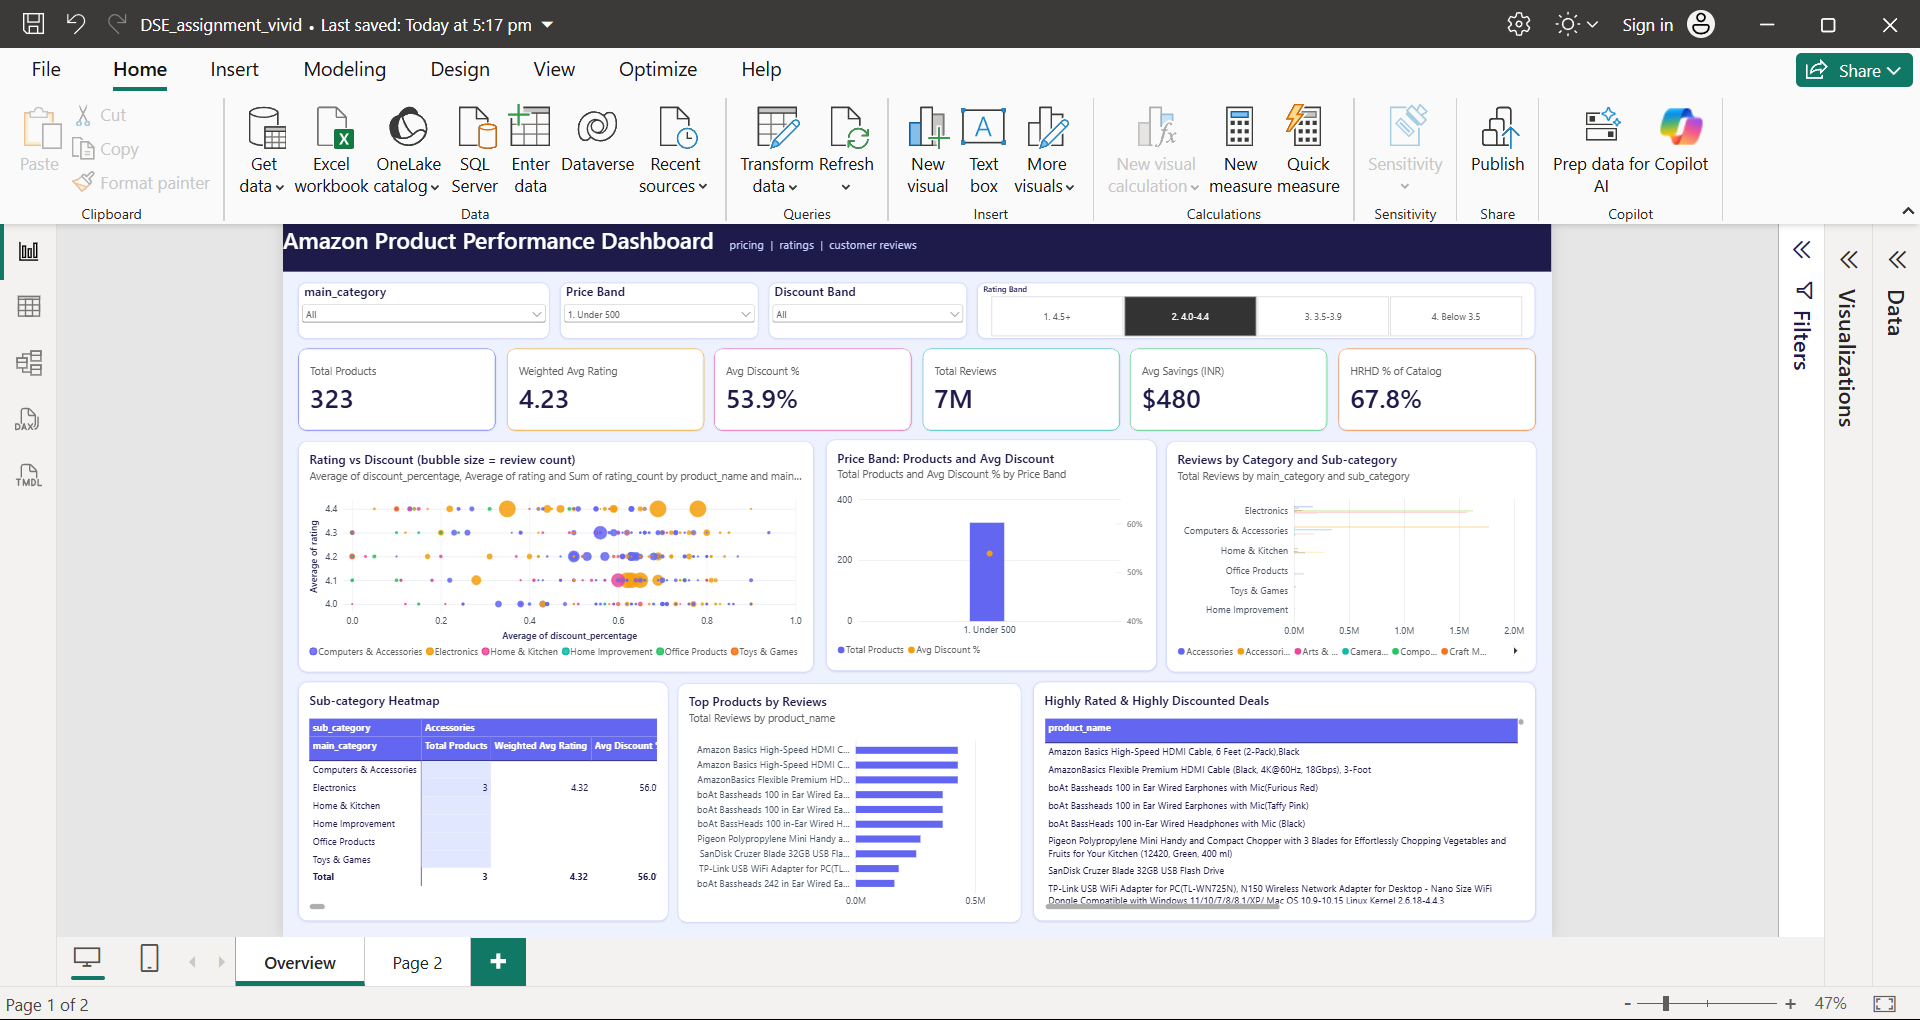

The dashboard page shown, as its layout file describes it:
{"tool":"powerbi","page":{"name":"Overview","canvas":[1920,1080],"ordinal":0},"visuals":[{"type":"textbox","box":[0,0,1920,72],"z":0},{"type":"slicer","fields":{"Values":["Products.main_category"]},"box":[24,88,380,84],"z":1},{"type":"slicer","fields":{"Values":["Products.Price Band"]},"box":[420,88,300,84],"z":2},{"type":"slicer","fields":{"Values":["Products.Discount Band"]},"box":[736,88,300,84],"z":3},{"type":"slicer","fields":{"Values":["Products.Rating Band"]},"box":[1052,88,844,84],"z":4},{"type":"cardVisual","fields":{"Data":["Products.Total Products"]},"box":[24,188,298.7,124],"z":5},{"type":"cardVisual","fields":{"Data":["Products.Weighted Avg Rating"]},"box":[338.7,188,298.7,124],"z":6},{"type":"cardVisual","fields":{"Data":["Products.Avg Discount %"]},"box":[653.3,188,298.7,124],"z":7},{"type":"cardVisual","fields":{"Data":["Products.Total Reviews"]},"box":[968,188,298.7,124],"z":8},{"type":"cardVisual","fields":{"Data":["Products.Avg Savings (INR)"]},"box":[1282.7,188,298.7,124],"z":9},{"type":"cardVisual","fields":{"Data":["Products.HRHD % of Catalog"]},"box":[1597.3,188,298.7,124],"z":10},{"type":"scatterChart","title":"Rating vs Discount (bubble size = review count)","fields":{"Category":["Products.product_name"],"Series":["Products.main_category"],"Size":["Sum(Products.rating_count)"],"X":["Avg(Products.discount_percentage)"],"Y":["Avg(Products.rating)"]},"box":[24,328,780,350],"z":11},{"type":"clusteredBarChart","title":"Reviews by Category and Sub-category","fields":{"Category":["Products.main_category"],"Series":["Products.sub_category"],"Y":["Products.Total Reviews"]},"box":[1337.3,328.5,560,350],"z":12},{"type":"lineClusteredColumnComboChart","title":"Price Band: Products and Avg Discount","fields":{"Category":["Products.Price Band"],"Y":["Products.Total Products"],"Y2":["Products.Avg Discount %"]},"box":[822.3,326.4,500,350],"z":13},{"type":"pivotTable","title":"Sub-category Heatmap","fields":{"Columns":["Products.sub_category"],"Rows":["Products.main_category"],"Values":["Products.Total Products","Products.Weighted Avg Rating","Products.Avg Discount %"]},"box":[24,694,560,362],"z":14},{"type":"clusteredBarChart","title":"Top Products by Reviews","fields":{"Category":["Products.product_name"],"Y":["Products.Total Reviews"]},"box":[597.7,695.2,520,362],"z":15},{"type":"tableEx","title":"Highly Rated & Highly Discounted Deals","fields":{"Values":["Products.product_name","Products.discounted_price","Products.actual_price","Products.discount_percentage","Products.rating","Products.rating_count","Products.HRHD Flag"]},"box":[1136,694,760,362],"z":16}]}

Visuals, with their boxes on the page's 1920x1080 design canvas (x1, y1, x2, y2). These are canvas units, not pixel positions in the 1920x1020 screenshot, which may show the page scaled, cropped or inside an application window:
textbox: l=0, t=0, r=1920, b=72
slicer - Products.main_category: l=24, t=88, r=404, b=172
slicer - Products.Price Band: l=420, t=88, r=720, b=172
slicer - Products.Discount Band: l=736, t=88, r=1036, b=172
slicer - Products.Rating Band: l=1052, t=88, r=1896, b=172
cardVisual - Products.Total Products: l=24, t=188, r=323, b=312
cardVisual - Products.Weighted Avg Rating: l=339, t=188, r=637, b=312
cardVisual - Products.Avg Discount %: l=653, t=188, r=952, b=312
cardVisual - Products.Total Reviews: l=968, t=188, r=1267, b=312
cardVisual - Products.Avg Savings (INR): l=1283, t=188, r=1581, b=312
cardVisual - Products.HRHD % of Catalog: l=1597, t=188, r=1896, b=312
"Rating vs Discount (bubble size = review count)" scatterChart: l=24, t=328, r=804, b=678
"Reviews by Category and Sub-category" clusteredBarChart: l=1337, t=328, r=1897, b=678
"Price Band: Products and Avg Discount" lineClusteredColumnComboChart: l=822, t=326, r=1322, b=676
"Sub-category Heatmap" pivotTable: l=24, t=694, r=584, b=1056
"Top Products by Reviews" clusteredBarChart: l=598, t=695, r=1118, b=1057
"Highly Rated & Highly Discounted Deals" tableEx: l=1136, t=694, r=1896, b=1056
